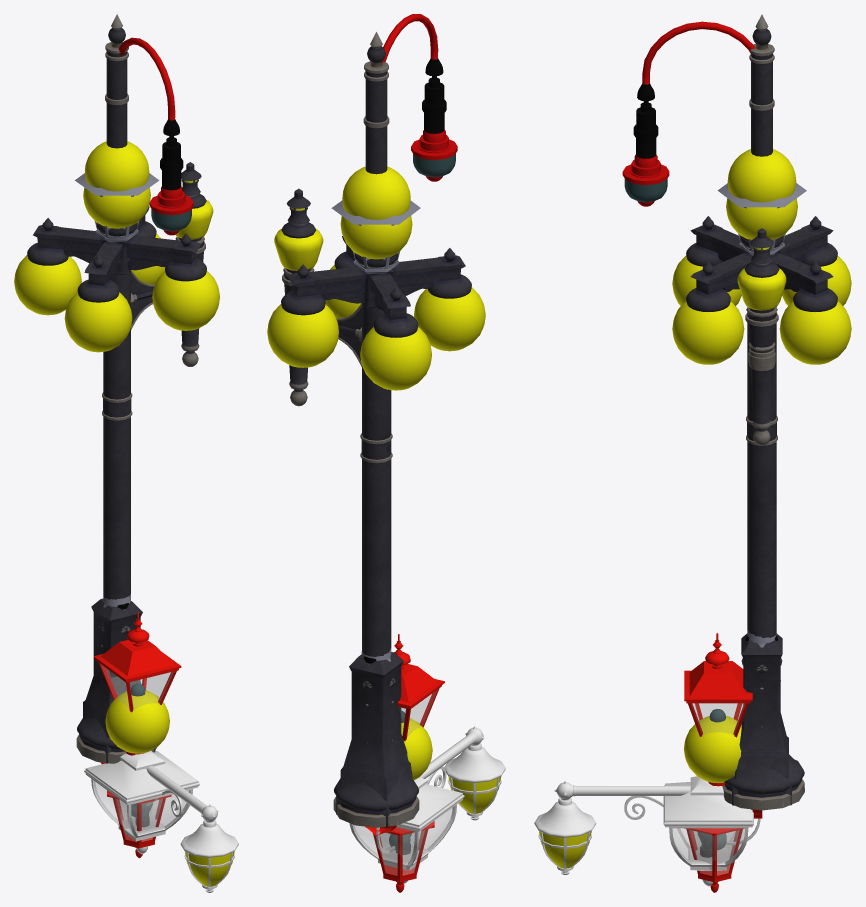
File: M_All_streetLights.fbx
3 views of the same model, side by side, from view 1: azimuth 30°, elevation 25°; view 2: azimuth 150°, elevation 25°; view 3: azimuth 270°, elevation 25° (orthographic). The views are drawn at different scales.
Visible parts, largest first — view 1: StreetLight 2, StreetLight 3, StreetLight 9, StreetLight 4, StreetLight 6, StreetLight 10, StreetLight 5, StreetLight 7, StreetLight 8, StreetLight 1; view 2: StreetLight 2, StreetLight 3, StreetLight 4, StreetLight 9, StreetLight 5, StreetLight 10, StreetLight 6, StreetLight 8, StreetLight 1, StreetLight 7; view 3: StreetLight 2, StreetLight 3, StreetLight 4, StreetLight 9, StreetLight 10, StreetLight 5, StreetLight 6, StreetLight 7, StreetLight 8, StreetLight 1.
Boxes of the visible parts, x1,y1,x2,y2 form: StreetLight 2: [14, 187, 219, 763]; StreetLight 3: [76, 141, 156, 763]; StreetLight 9: [84, 751, 199, 854]; StreetLight 4: [105, 14, 213, 366]; StreetLight 6: [93, 612, 181, 712]; StreetLight 10: [146, 766, 238, 892]; StreetLight 5: [117, 37, 193, 609]; StreetLight 7: [100, 690, 169, 764]; StreetLight 8: [105, 763, 171, 858]; StreetLight 1: [75, 173, 159, 761]; StreetLight 2: [267, 216, 485, 827]; StreetLight 3: [333, 166, 419, 827]; StreetLight 4: [274, 32, 389, 406]; StreetLight 9: [349, 777, 464, 883]; StreetLight 5: [364, 14, 457, 663]; StreetLight 10: [376, 726, 505, 853]; StreetLight 6: [394, 634, 444, 741]; StreetLight 8: [365, 821, 434, 892]; StreetLight 1: [331, 200, 420, 824]; StreetLight 7: [368, 718, 432, 831]; StreetLight 2: [672, 198, 851, 805]; StreetLight 3: [722, 149, 804, 810]; StreetLight 4: [737, 14, 786, 445]; StreetLight 9: [663, 776, 753, 886]; StreetLight 10: [534, 781, 760, 874]; StreetLight 5: [622, 21, 778, 640]; StreetLight 6: [684, 633, 752, 737]; StreetLight 7: [684, 716, 761, 814]; StreetLight 8: [684, 809, 762, 892]; StreetLight 1: [717, 183, 806, 807].
Size of what is drawn, in the model's own units: 115 by 547 by 179.
